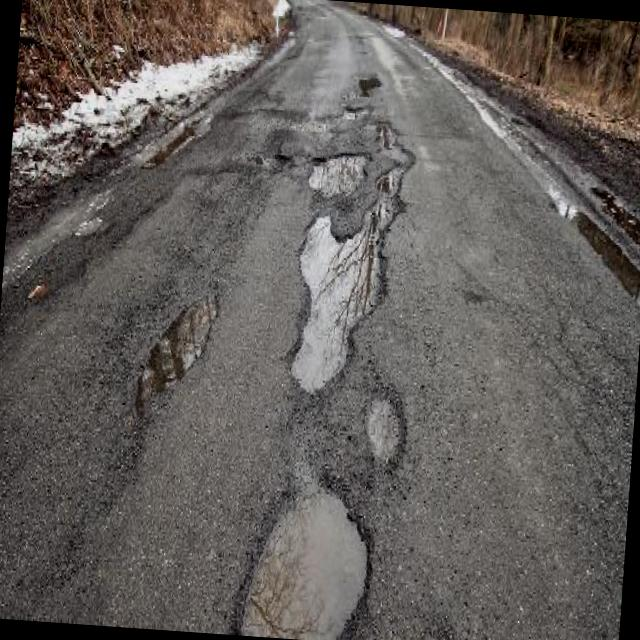Lubang: (291, 198, 394, 392), (243, 489, 366, 640), (136, 297, 216, 415), (371, 121, 413, 213), (365, 382, 406, 466), (309, 154, 365, 197), (342, 103, 370, 120)
